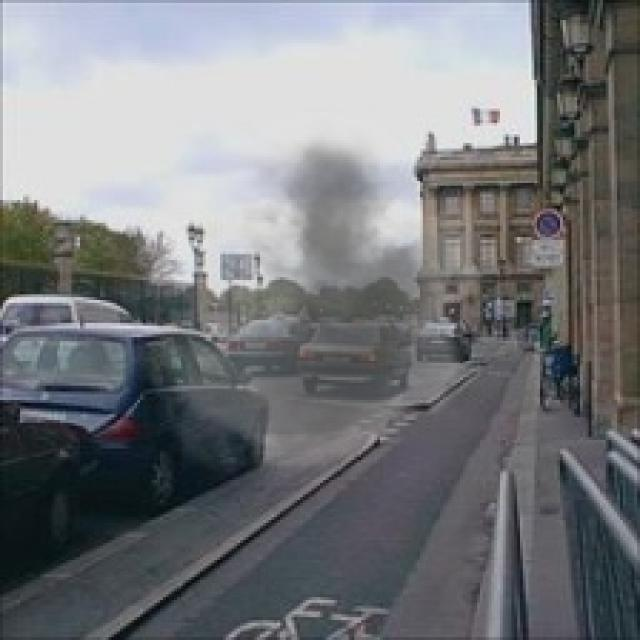Smoke: (111, 109, 503, 492)
